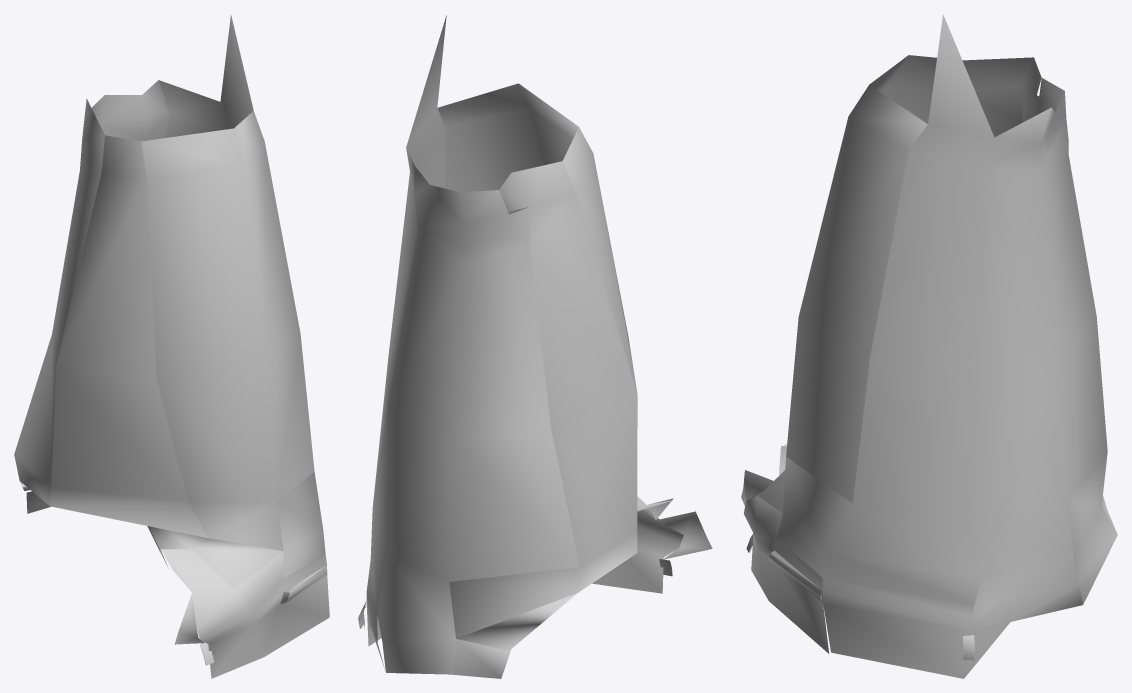
File: right_up_leg.glb
The picture shows the model from 3 angles, left to right: view 1: azimuth 30°, elevation 25°; view 2: azimuth 150°, elevation 25°; view 3: azimuth 270°, elevation 25°; orthographic projection. The views are drawn at different scales.
Parts seen in each view (by area): view 1: trousers-white_RIGHT_UP_LEG; view 2: trousers-white_RIGHT_UP_LEG; view 3: trousers-white_RIGHT_UP_LEG.
Boxes of the visible parts, box(x1,y1,x2,y2) form: trousers-white_RIGHT_UP_LEG: box(14, 15, 329, 678); trousers-white_RIGHT_UP_LEG: box(358, 15, 712, 678); trousers-white_RIGHT_UP_LEG: box(741, 14, 1117, 678).
Size of the model in its own units: 0.2577 by 0.5908 by 0.3189.
Materials: 1 (1 with a texture image).
